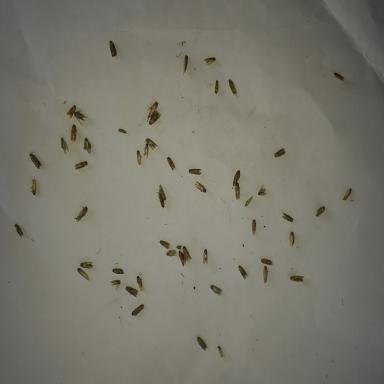pbw: (180, 242, 194, 266), (73, 205, 89, 225), (202, 52, 219, 70), (28, 151, 42, 171), (226, 78, 239, 99), (76, 266, 92, 283), (156, 181, 168, 203), (71, 109, 88, 124), (158, 235, 172, 253), (186, 164, 204, 178), (10, 221, 24, 239), (230, 168, 241, 190), (124, 283, 140, 298), (143, 135, 158, 151), (130, 302, 145, 318), (164, 245, 179, 261), (148, 109, 162, 126), (237, 264, 250, 282), (195, 334, 208, 352), (133, 147, 144, 168), (155, 190, 166, 211), (180, 53, 190, 76), (339, 187, 353, 203), (60, 136, 71, 156), (69, 122, 79, 144), (242, 192, 254, 210), (108, 278, 122, 293), (140, 142, 150, 163), (209, 283, 224, 297), (65, 104, 77, 121), (82, 136, 92, 156), (280, 210, 294, 224), (73, 159, 89, 171), (178, 249, 186, 273), (314, 204, 326, 220), (259, 256, 275, 268), (134, 274, 144, 293), (287, 229, 296, 250), (166, 155, 177, 172), (200, 247, 211, 264), (273, 146, 287, 159), (194, 180, 207, 194), (256, 182, 268, 197), (109, 39, 118, 59), (29, 176, 37, 198), (216, 344, 226, 361), (332, 71, 346, 83), (250, 218, 258, 238), (78, 260, 94, 270), (289, 274, 305, 284), (233, 181, 241, 200), (212, 78, 220, 97), (262, 264, 269, 285), (111, 267, 126, 276), (116, 126, 128, 136)
